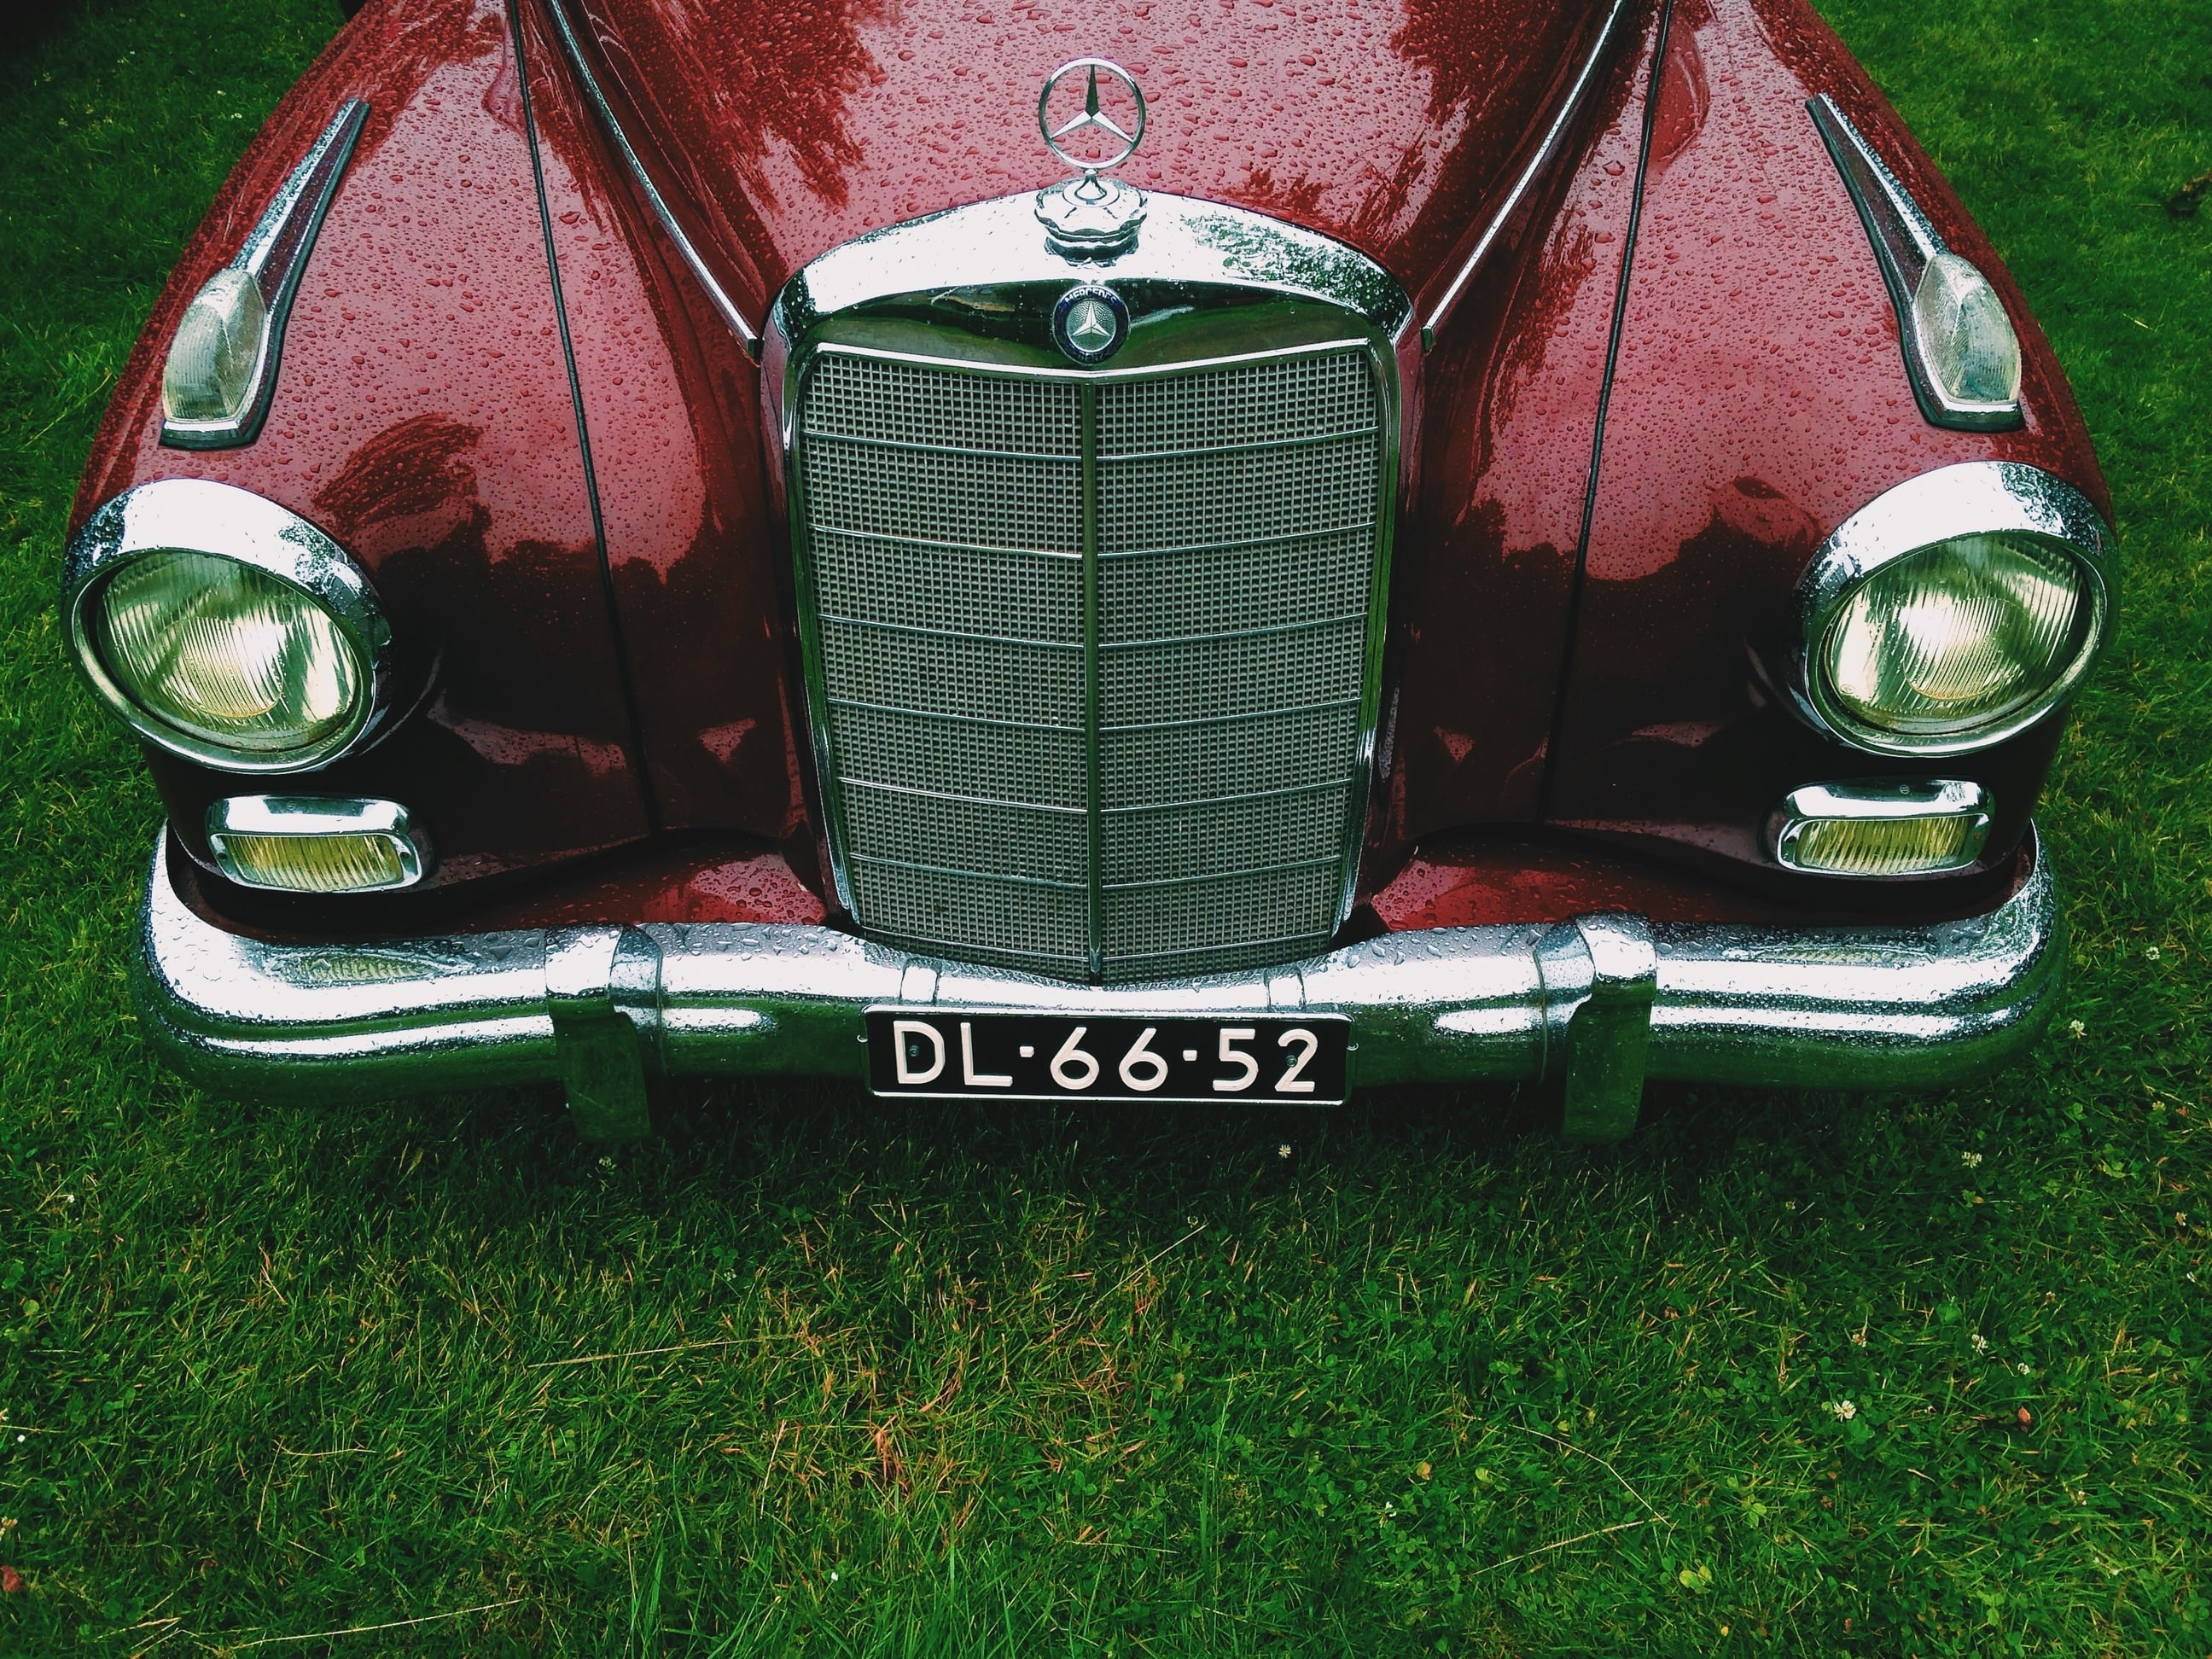plaka: (866, 1010, 1356, 1104)
